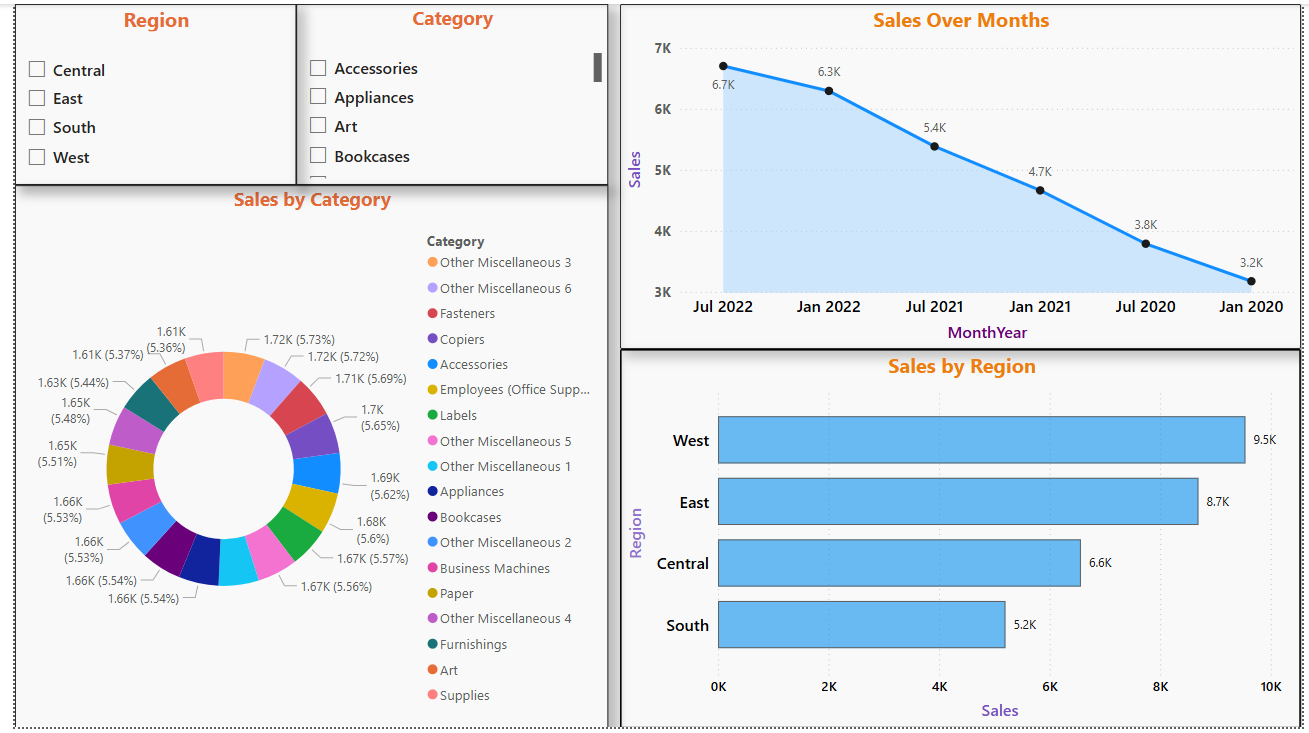

This screenshot's page, from the dashboard's own definition file:
{"tool":"powerbi","page":{"name":"Page 1","canvas":[1280,720],"ordinal":0},"visuals":[{"type":"lineChart","title":"Sales Over Months","fields":{"Category":["superstore_sales.MonthYear"],"Y":["CountNonNull(superstore_sales.Sales)"]},"box":[602.4,0,677.9,343.1],"z":0},{"type":"barChart","title":"Sales by Region","fields":{"Category":["superstore_sales.Region"],"Y":["CountNonNull(superstore_sales.Sales)"]},"box":[602.4,343.1,677.9,377.4],"z":1000},{"type":"donutChart","fields":{"Y":["CountNonNull(superstore_sales.Sales)"],"Category":["superstore_sales.Category"]},"box":[0,179.8,590.1,540.7],"z":2000},{"type":"slicer","title":"Region","fields":{"Values":["superstore_sales.Region"]},"box":[0,0,279.9,179.8],"z":3000},{"type":"slicer","title":"Category","fields":{"Values":["superstore_sales.Category"]},"box":[279.9,0,310.1,179.8],"z":4000}]}

Visuals, with their boxes in screenshot pixels (x1, y1, x2, y2), scaled from the page's 1280x720 canvas onto the 1309x733 screenshot:
"Sales Over Months" lineChart: bbox=(616, 0, 1308, 349)
"Sales by Region" barChart: bbox=(616, 349, 1308, 732)
donutChart - CountNonNull(superstore_sales.Sales) x superstore_sales.Category: bbox=(0, 183, 603, 732)
"Region" slicer: bbox=(0, 0, 286, 183)
"Category" slicer: bbox=(286, 0, 603, 183)
